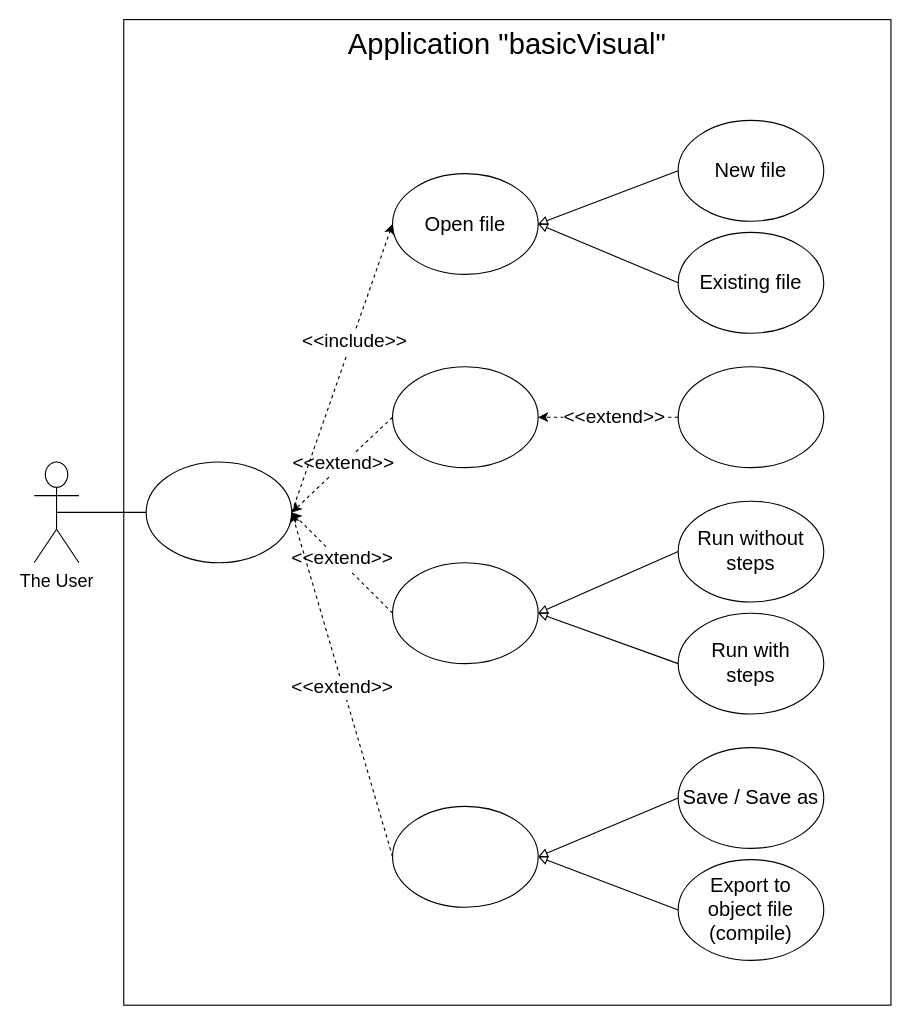
This 911x1025 diagram has some shape labels left out. The box of each missing label's shape, as (x1, y1, x2, y2) in pixels:
Coding: (391, 366, 538, 468)
Import file as function: (677, 366, 824, 468)
Running the code: (391, 562, 538, 664)
Saving the code: (391, 805, 538, 907)
Using the application: (145, 461, 292, 563)
